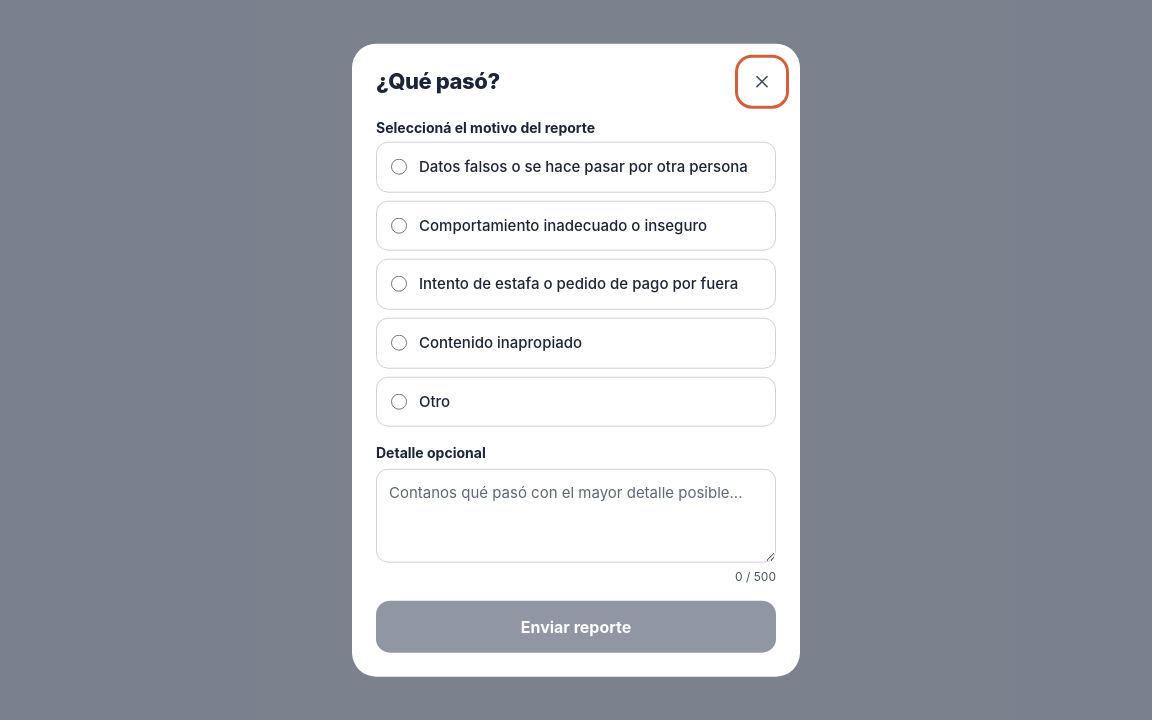
HojaReportar › actualiza el contador de caracteres del detalle
The image size is (1152, 720).
Expected: the text "0 / 500" is shown, [735,568,776,584]
Type "Texto de prueba" into the text box labelled "Detalle opcional" at [576, 516], box [376,469,776,562]
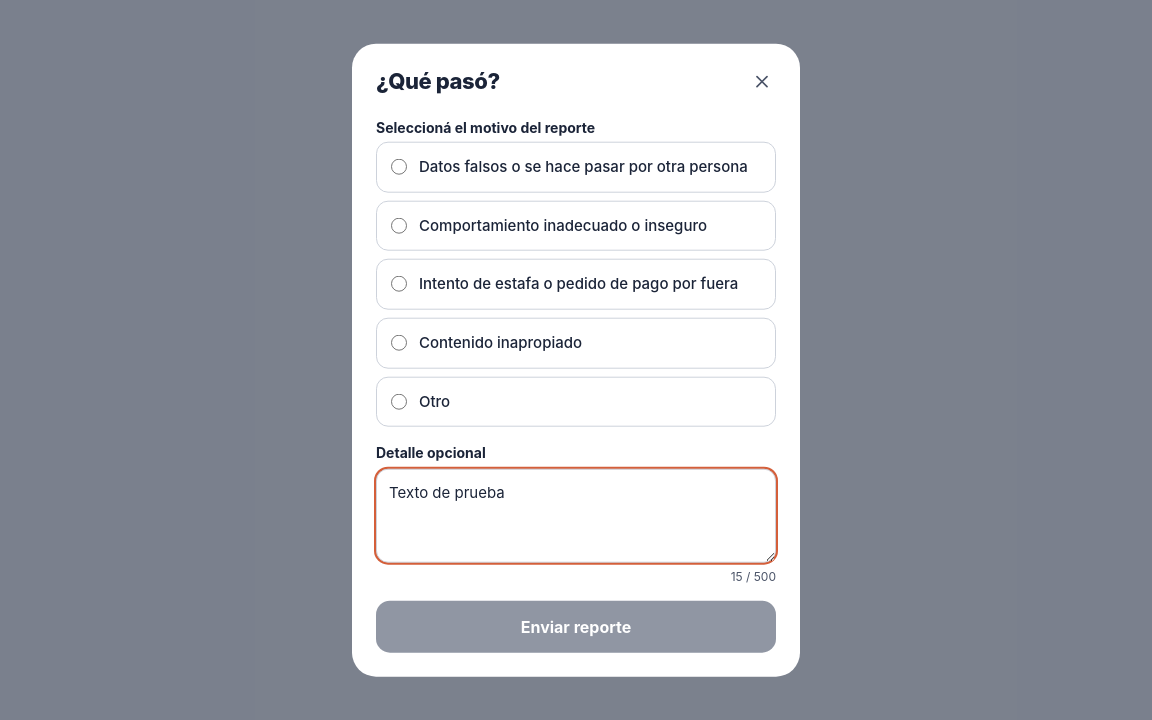
Now the text "15 / 500" is shown, box [731,568,776,584]
